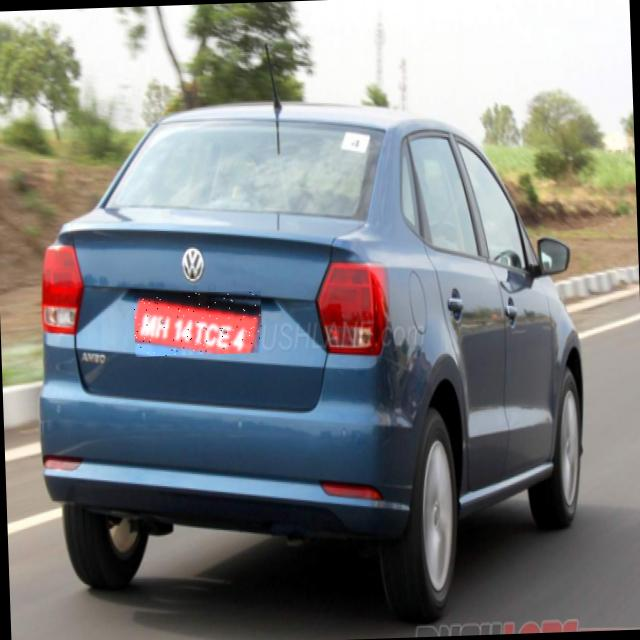Plate: (134, 292, 263, 358)
